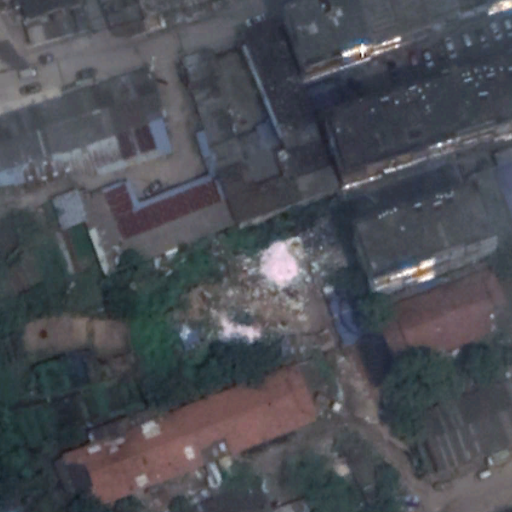msw: (185, 228, 353, 362)
